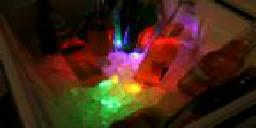LED: (134, 37, 182, 90), (61, 42, 104, 89)
